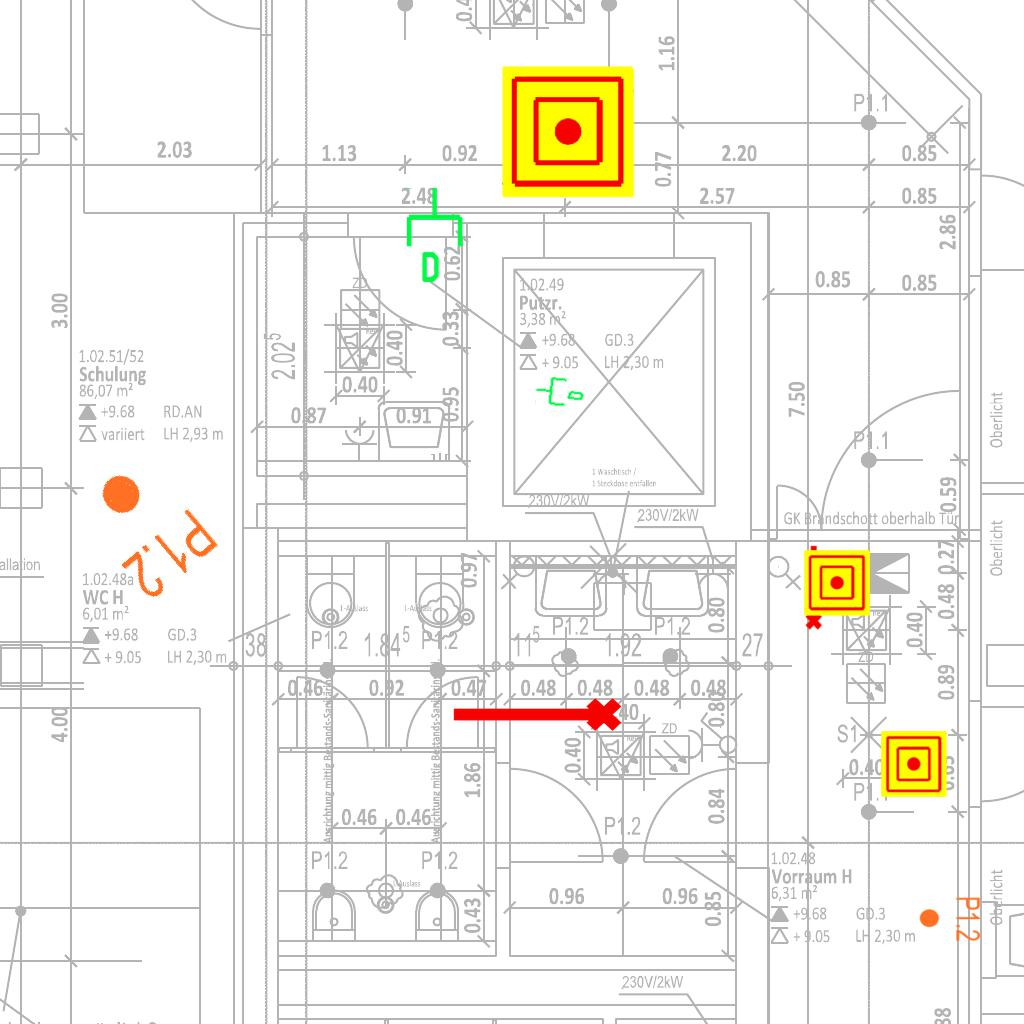ASR_Ansaugoeffnung: (448, 694, 624, 740), (801, 543, 824, 631)
Datenanschluss_einfach: (402, 185, 471, 285), (533, 371, 587, 411)
Downlight_LED_Einbauleuchten_Flur: (69, 448, 224, 606), (918, 896, 982, 942)
NAM-Nichtautomatischer_Melder: (502, 66, 634, 198), (881, 731, 947, 797), (804, 550, 870, 616)
